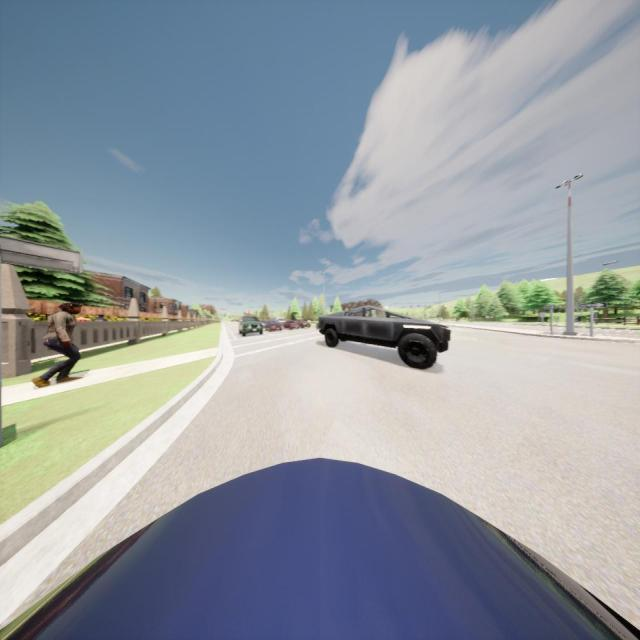Pedestrian: (32, 302, 82, 387)
Vehicle: (0, 456, 640, 640), (318, 306, 451, 370), (239, 315, 263, 336), (264, 320, 283, 332), (284, 320, 299, 330), (296, 320, 311, 328)
